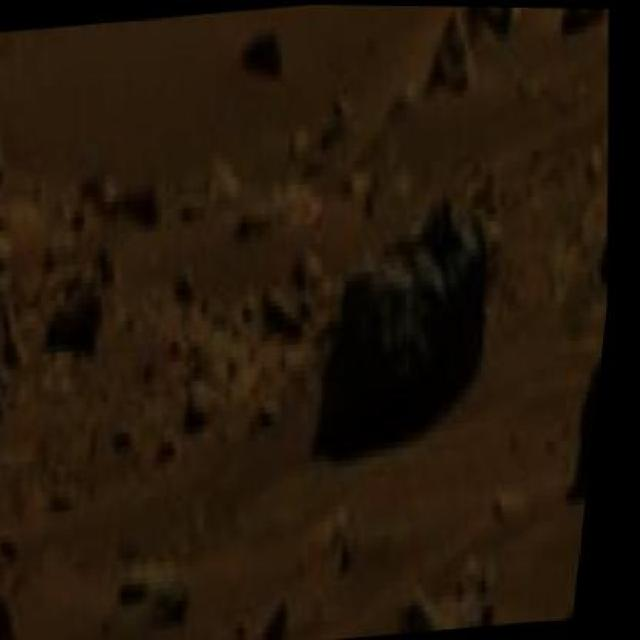rock: (294, 169, 523, 453), (544, 194, 622, 512), (384, 574, 514, 628), (47, 286, 121, 360), (0, 31, 26, 189), (237, 18, 288, 77), (0, 579, 49, 639)
